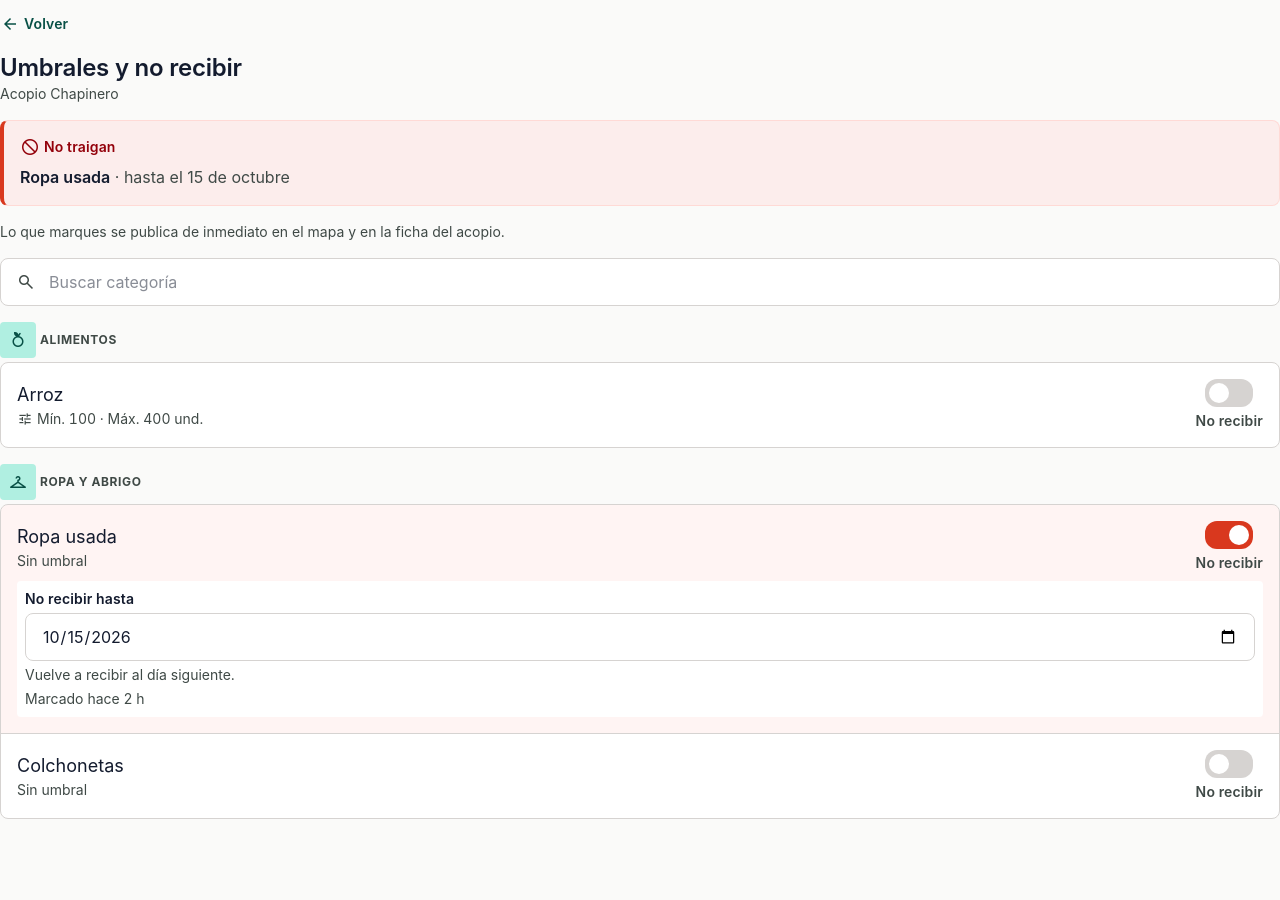
Test case: C7 Umbrales › el punto cuenta como coma y en unidades los decimales dan error
Click the button "Colchonetas Sin umbral" at (70, 766), box x1=17 y1=752 x2=1188 y2=800
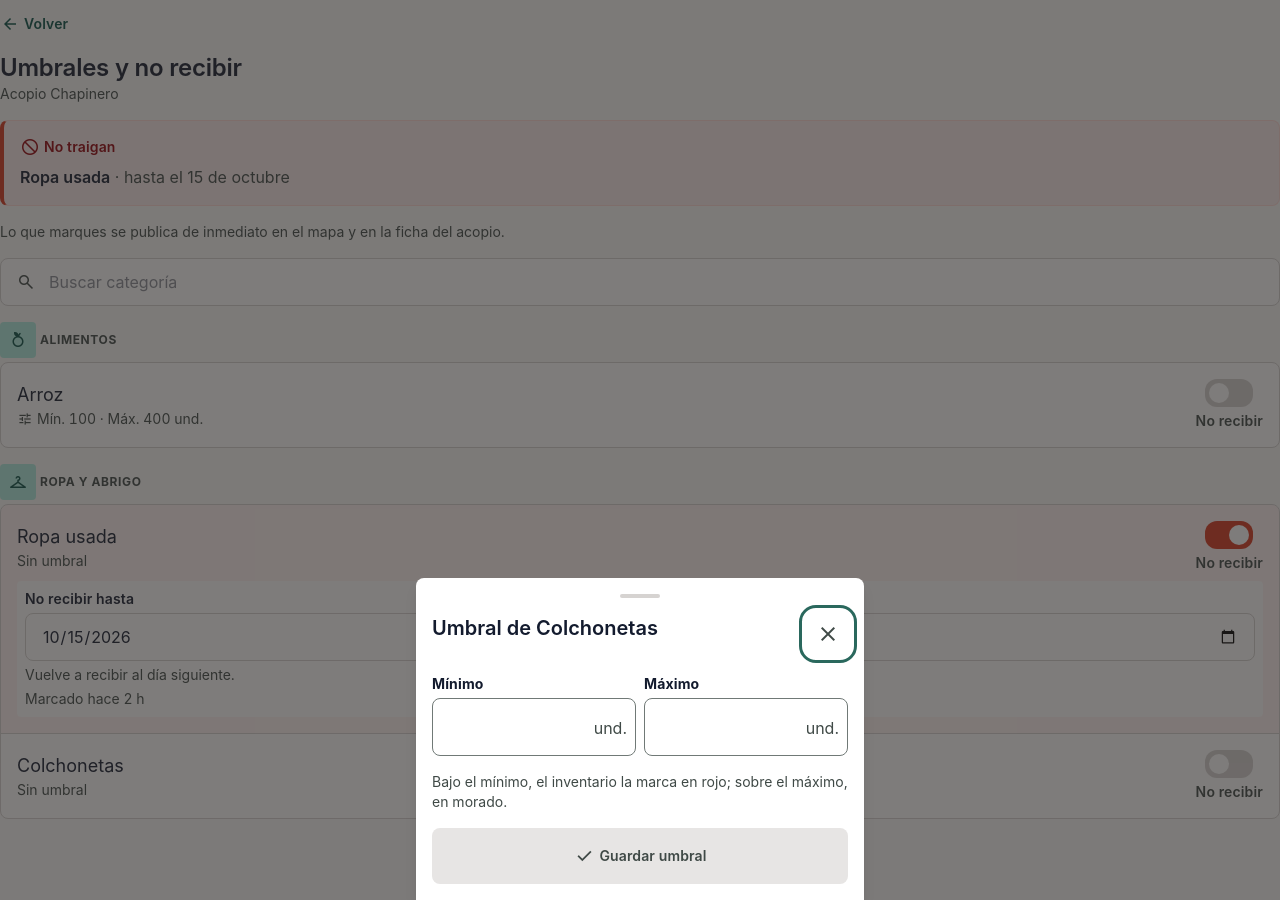
Type "1.5" into the field labelled "Mínimo" at (515, 727), box x1=441 y1=699 x2=590 y2=755
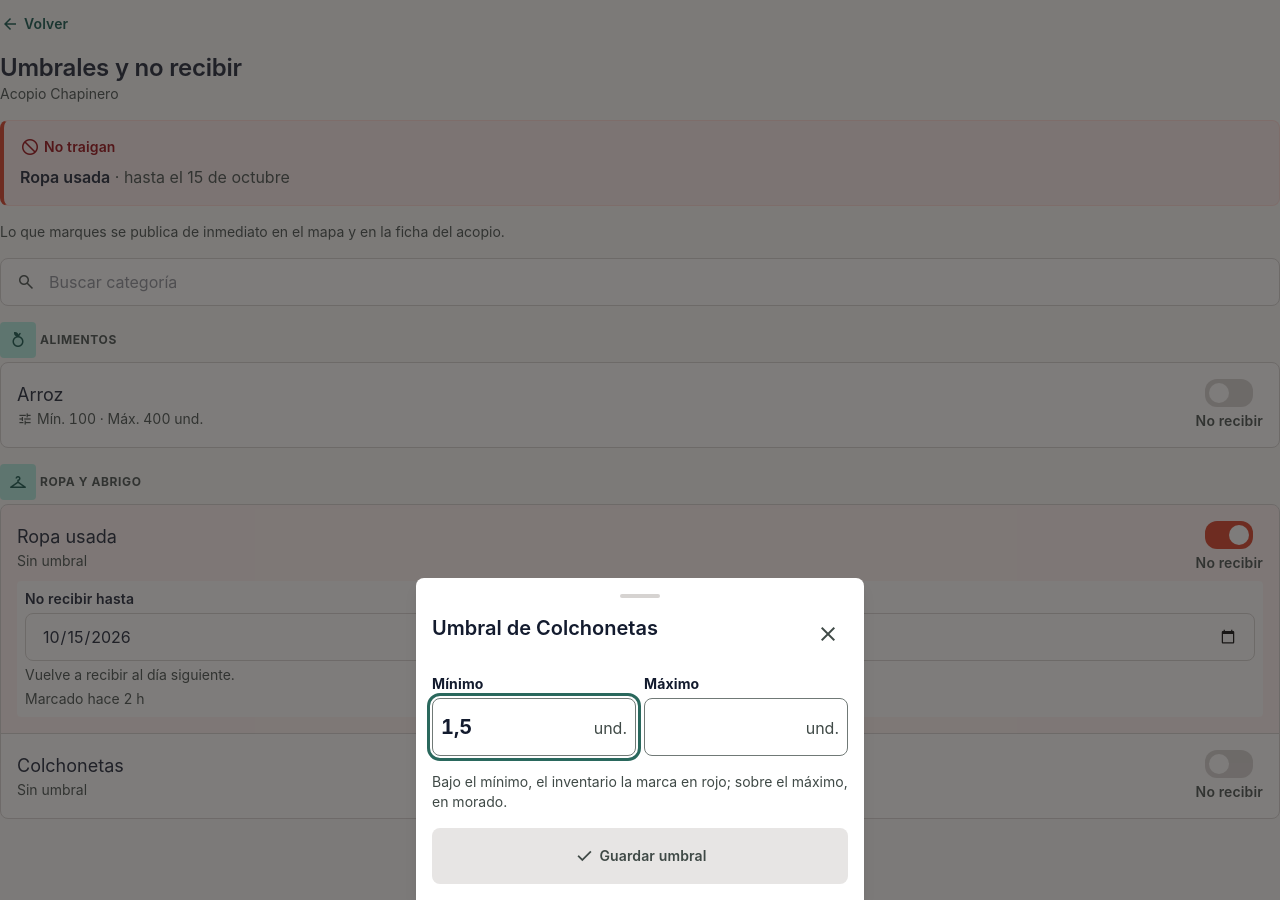
Type "10" into the field labelled "Máximo" at (727, 727), box x1=653 y1=699 x2=802 y2=755
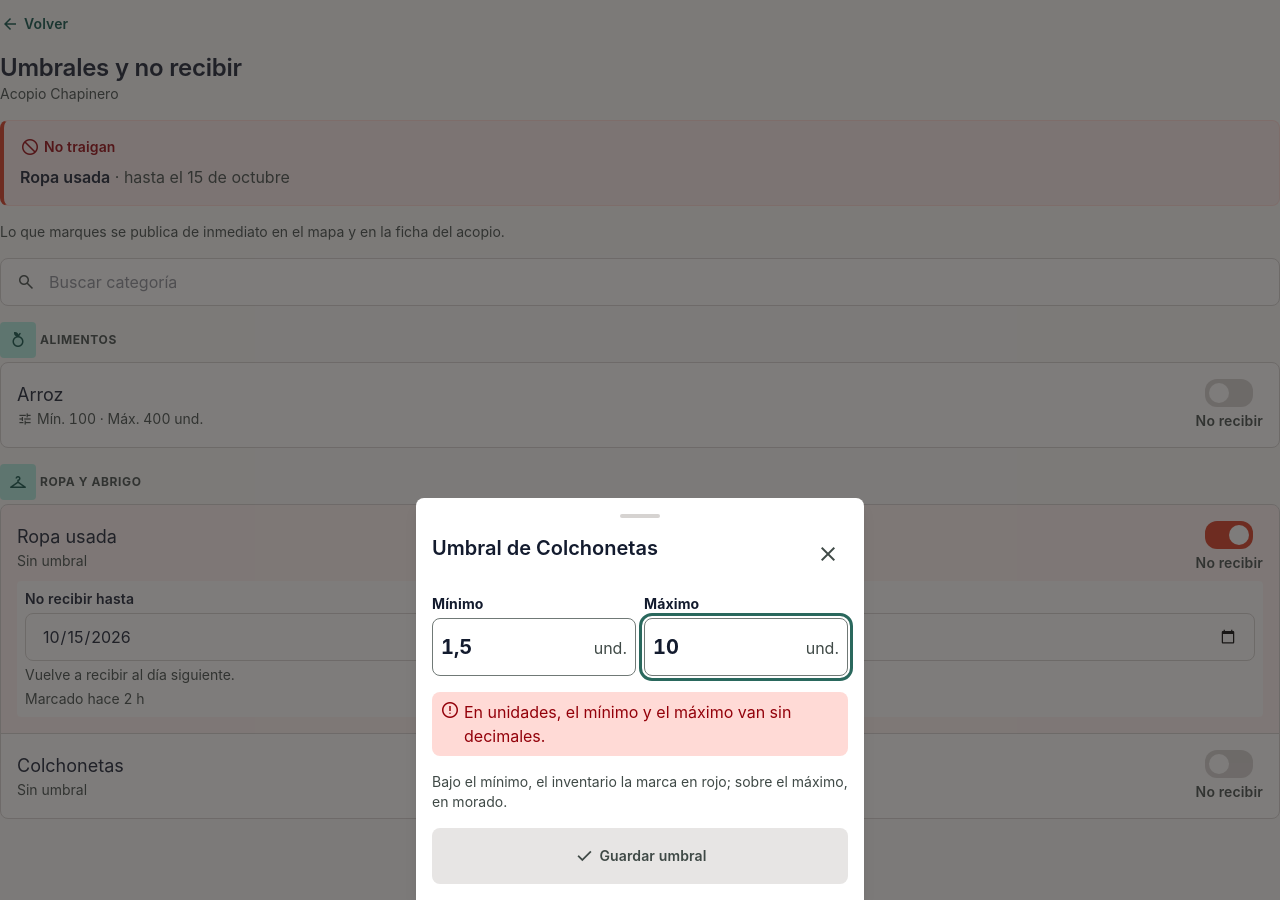
expect the field labelled "Mínimo" holds "1,5": met, box x1=441 y1=619 x2=590 y2=675
expect the message reads "En unidades, el mínimo y el máximo van sin decimales.": met, box x1=464 y1=702 x2=791 y2=746
